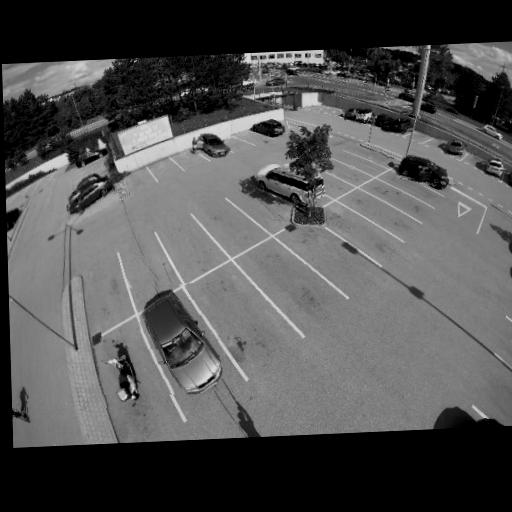busy: (138, 282, 221, 396), (98, 334, 151, 408), (254, 160, 323, 210), (394, 150, 447, 191), (63, 171, 114, 211), (195, 129, 230, 159), (379, 111, 412, 137), (342, 104, 373, 125), (254, 117, 285, 137), (482, 156, 507, 178), (442, 141, 467, 160), (508, 167, 512, 190)
free: (212, 291, 266, 335), (266, 265, 312, 300), (123, 255, 165, 287), (89, 277, 126, 313), (172, 232, 211, 261), (311, 242, 350, 267), (213, 216, 246, 239), (344, 220, 373, 243), (252, 198, 279, 219), (365, 202, 389, 220), (322, 175, 346, 192), (384, 189, 405, 205), (155, 162, 176, 178), (126, 174, 147, 188), (332, 165, 353, 178), (368, 150, 389, 163), (399, 179, 418, 192), (180, 156, 198, 169), (318, 104, 339, 115), (429, 138, 448, 150), (465, 154, 482, 167), (350, 158, 368, 168), (227, 139, 241, 150), (244, 133, 259, 143)
